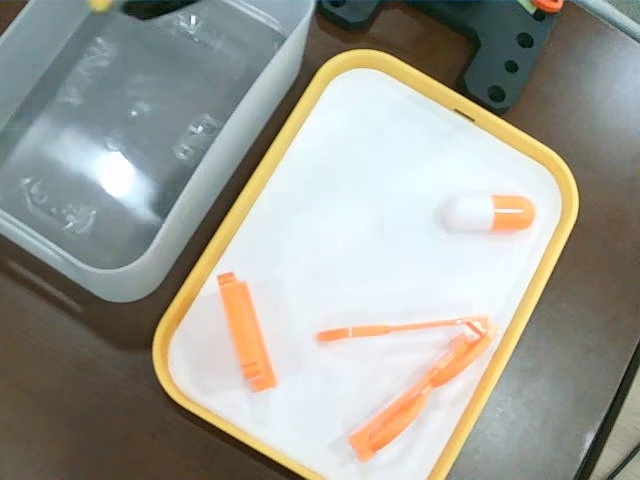pill: (440, 191, 535, 234)
